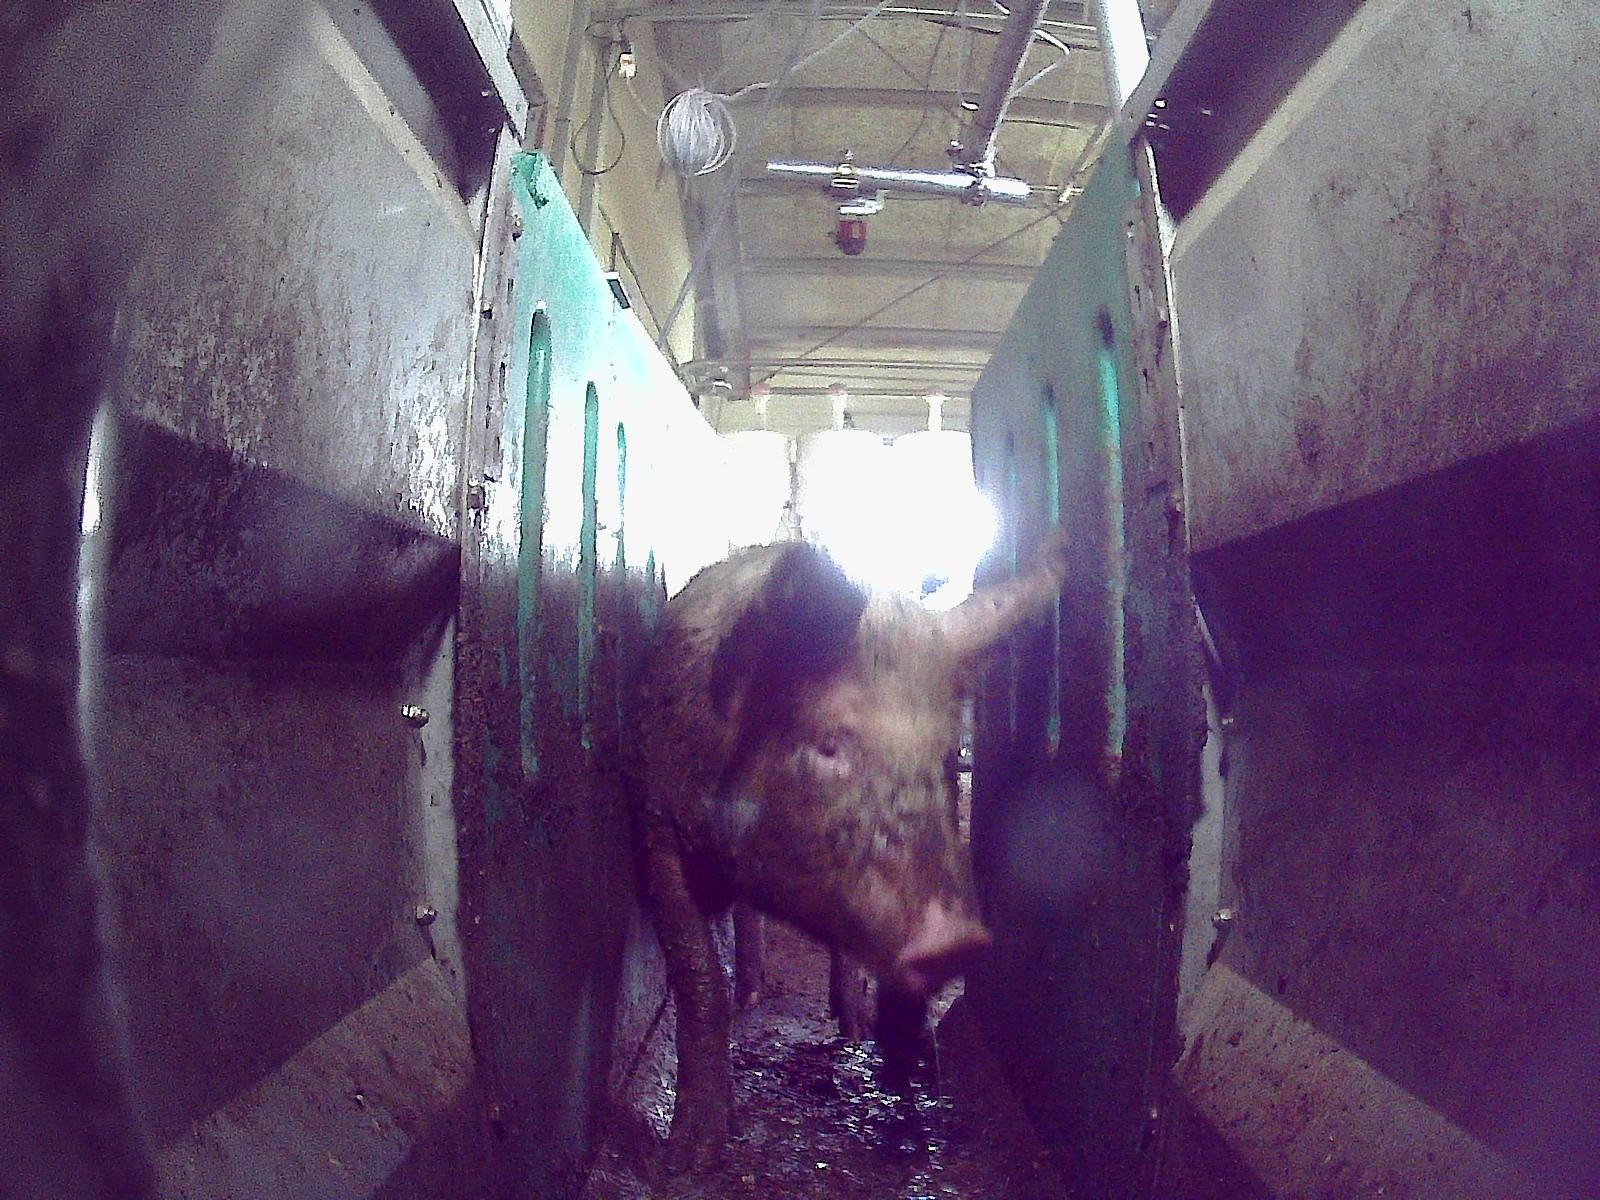Face: (743, 640, 994, 990)
